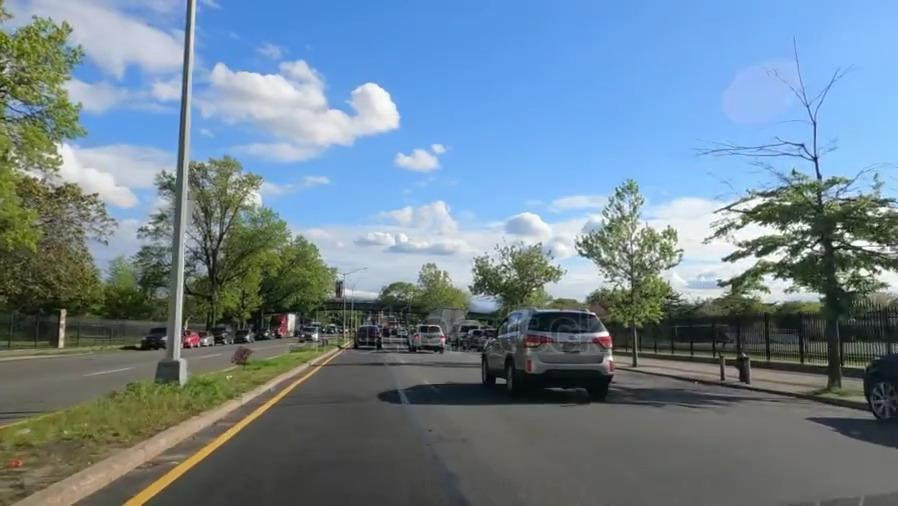car: (480, 310, 614, 392), (404, 324, 446, 350), (353, 324, 382, 351), (138, 328, 170, 350), (180, 330, 198, 350), (301, 326, 317, 345), (235, 329, 253, 345), (213, 328, 232, 343), (200, 333, 213, 346), (257, 328, 268, 342)
wheel: (861, 375, 898, 427)
